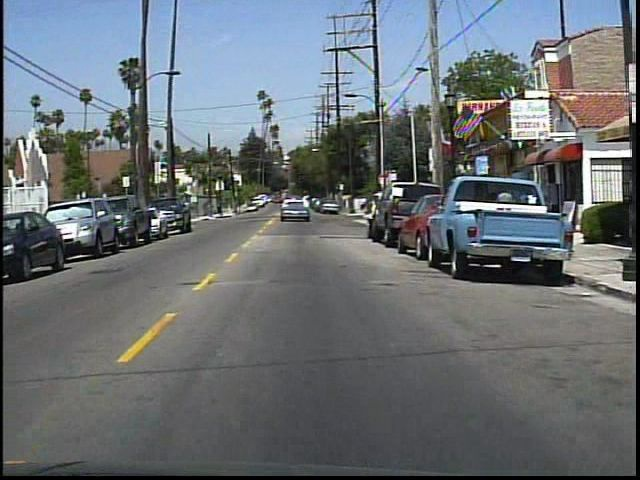person: (495, 182, 519, 234)
